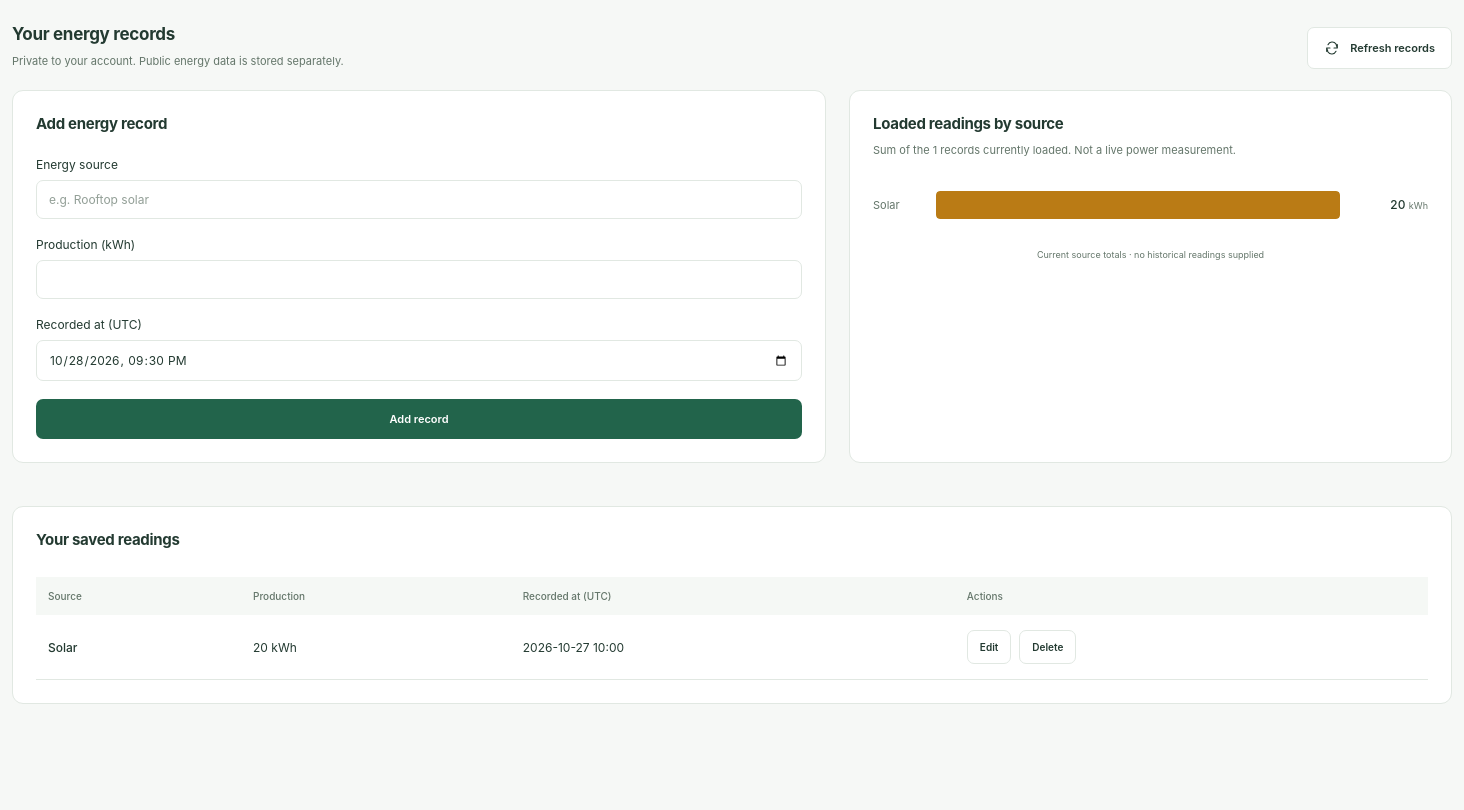
it: private energy records › clears private data on authorization failure
Expected: the column heading "Solar" is shown, [36,615,241,680]
Click the button with aria-label "Edit Solar record": point(989, 647) [967,630,1011,664]
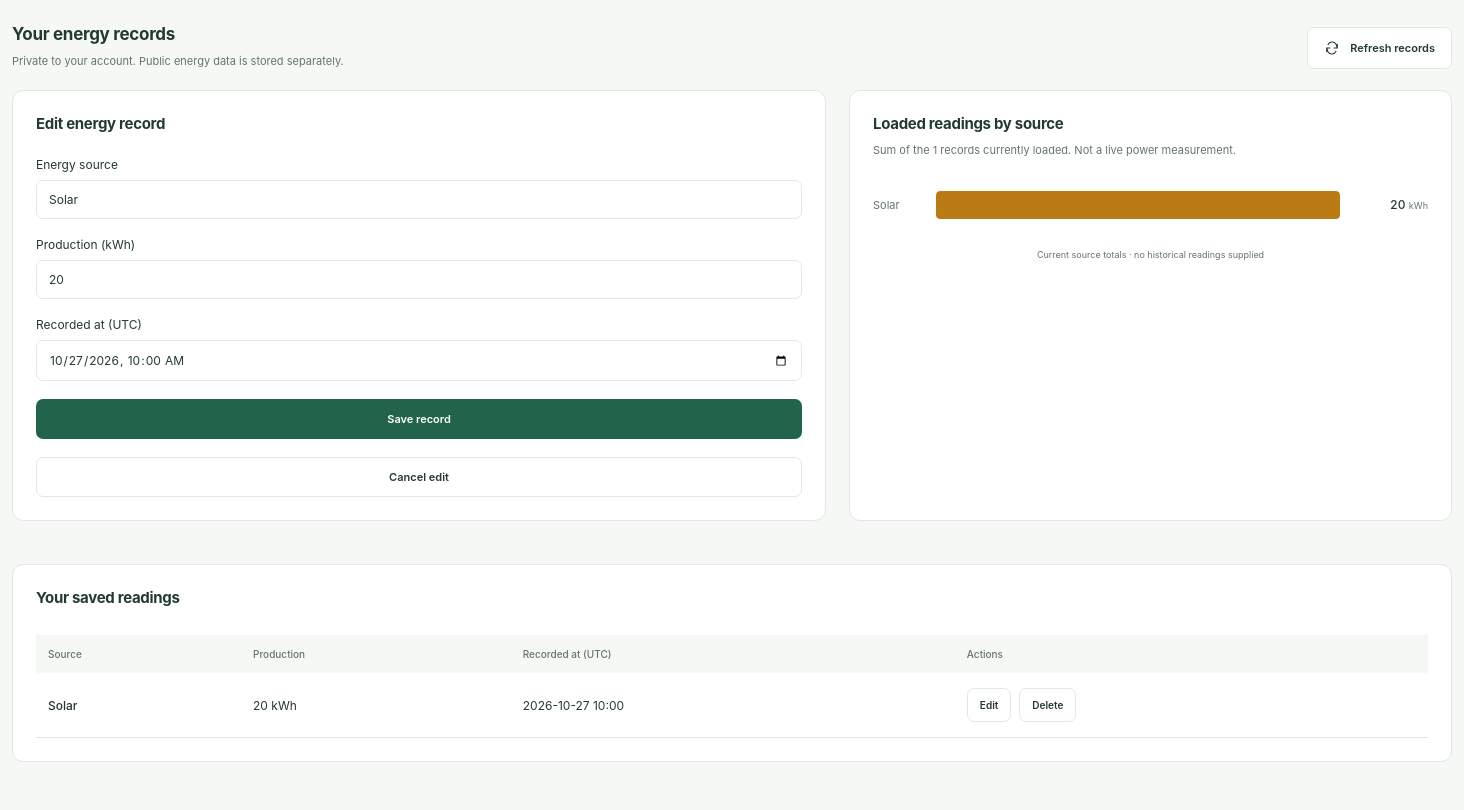
Click the button "Refresh records": point(1380, 48) [1307,27,1452,69]
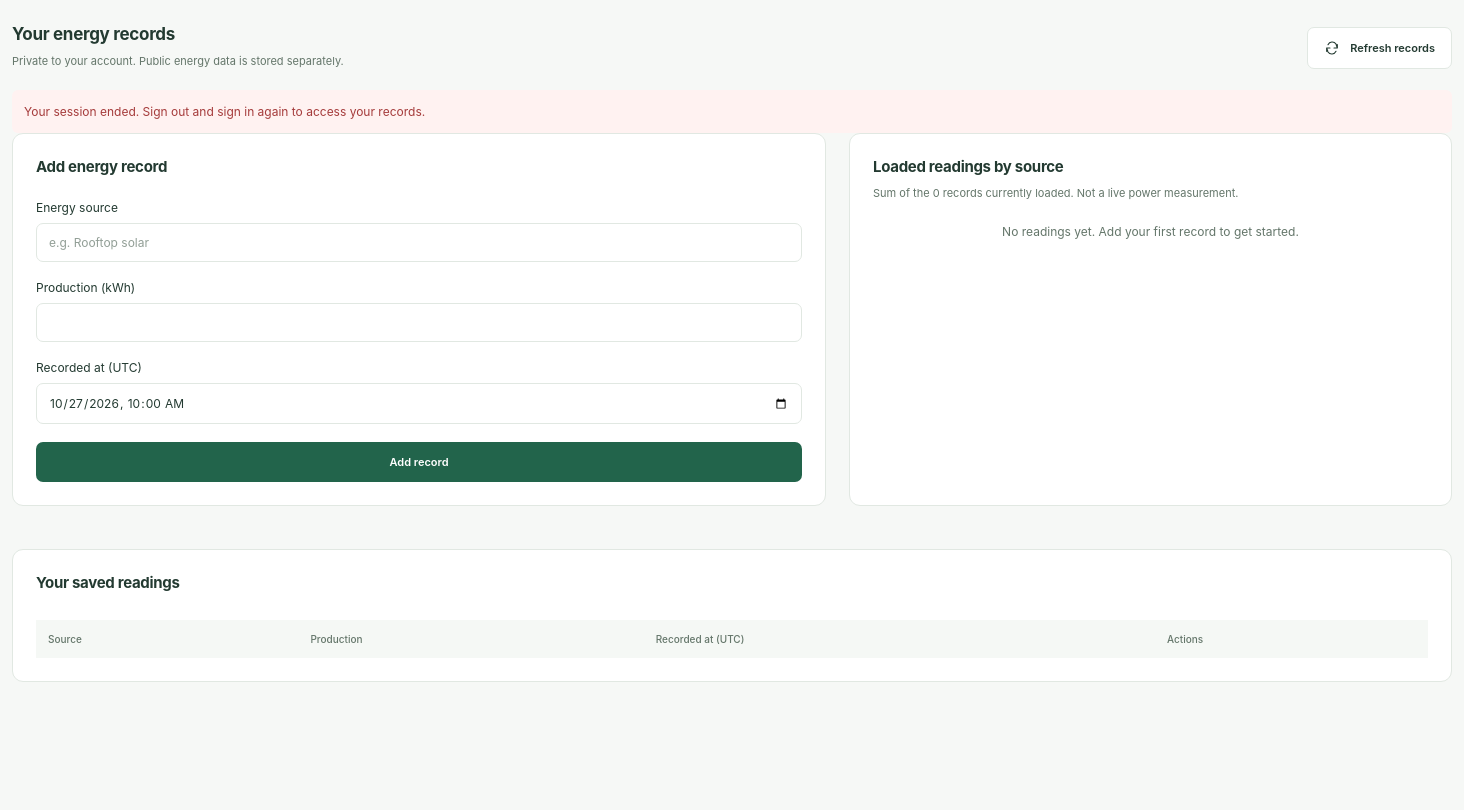
Result: the message shows "session ended" at [24,104,425,119]
Result: the field labelled "Energy source" is empty at [36,223,802,262]
Result: the number field labelled "Production (kWh)" is not empty at [36,303,802,342]
